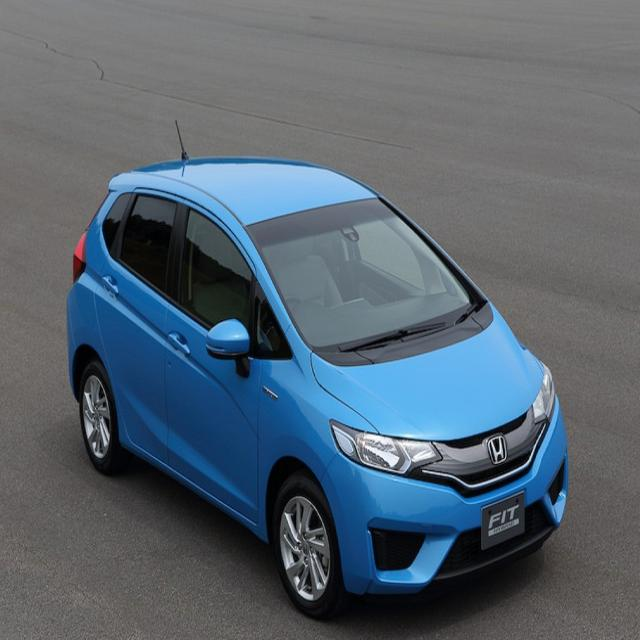back_right_side_light: (69, 224, 91, 290)
door: (107, 203, 189, 449)
front_bumper: (337, 433, 571, 593)
front_glass: (244, 192, 492, 362)
front_left_side_light: (532, 359, 556, 430)
front_right_side_door: (162, 182, 263, 531)
front_right_side_light: (322, 415, 443, 485)
front_right_side_mirror: (202, 313, 255, 379)
wheel: (271, 466, 344, 619), (79, 338, 130, 478)
